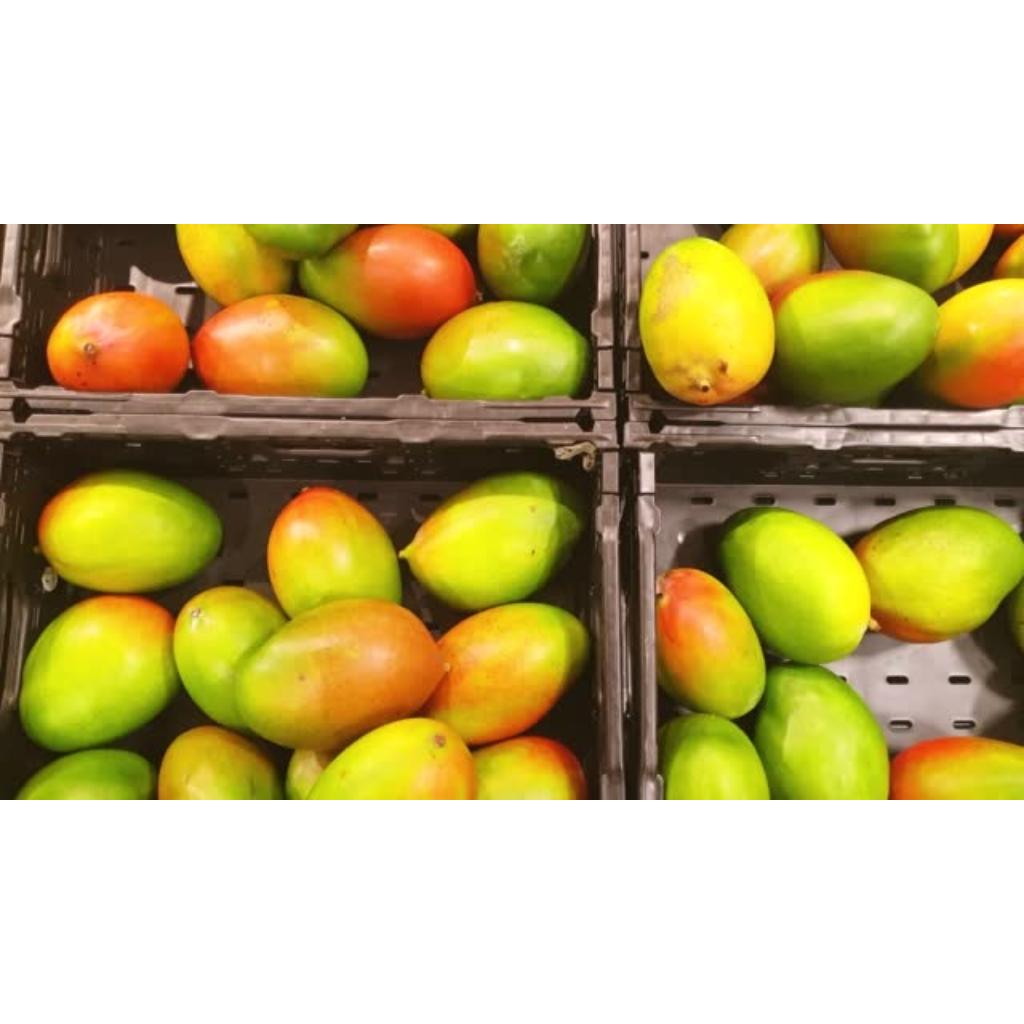mango: (236, 598, 444, 749), (400, 472, 584, 610), (20, 596, 180, 751), (424, 602, 590, 744), (718, 508, 870, 663), (854, 508, 1024, 642), (638, 236, 774, 403), (38, 470, 222, 592), (774, 270, 938, 405), (298, 224, 476, 337), (192, 294, 368, 397), (754, 666, 888, 799), (268, 488, 402, 617), (422, 302, 588, 399), (658, 568, 766, 717), (174, 586, 286, 729), (308, 718, 476, 800), (918, 278, 1024, 407), (48, 296, 190, 391), (660, 714, 770, 800), (177, 224, 292, 305), (158, 726, 282, 800), (822, 224, 957, 291), (478, 224, 588, 303), (890, 736, 1024, 800), (472, 736, 588, 800), (16, 750, 156, 799)
